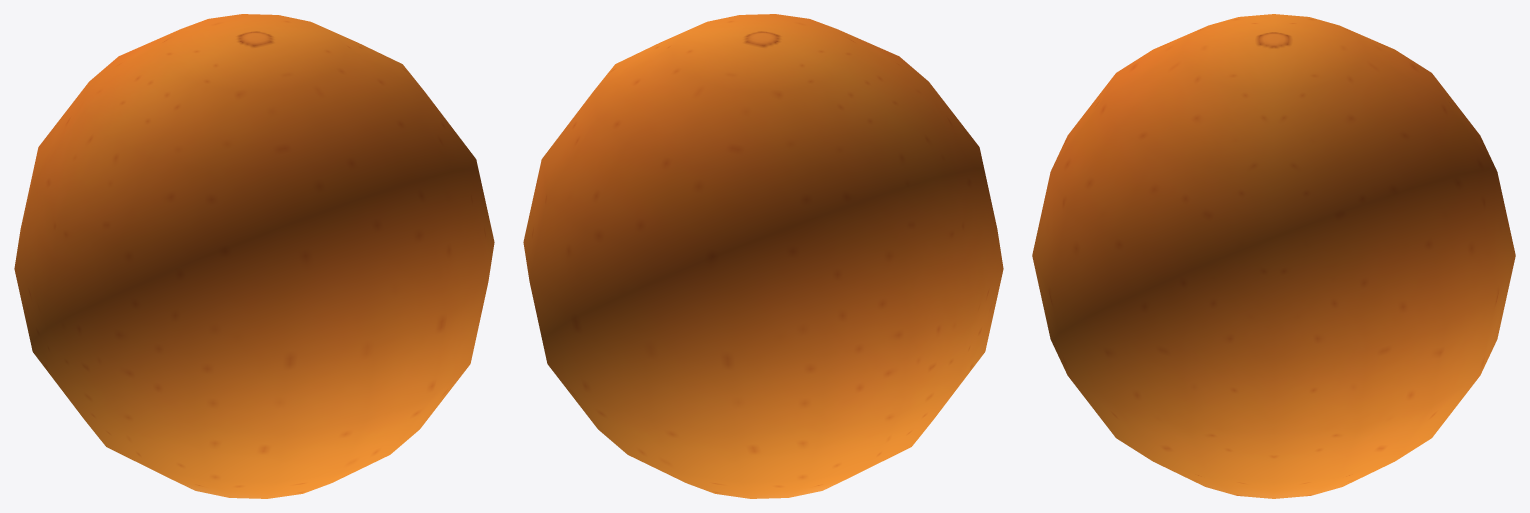
Rendered from Orange.FBX.
The picture shows the model from 3 angles, left to right: view 1: azimuth 30°, elevation 25°; view 2: azimuth 150°, elevation 25°; view 3: azimuth 270°, elevation 25°; orthographic projection.
Parts seen in each view (by area): view 1: Orange; view 2: Orange; view 3: Orange.
Boxes of the visible parts, left/top/right/bottom form: Orange: left=14, top=14, right=494, bottom=498; Orange: left=523, top=14, right=1003, bottom=498; Orange: left=1032, top=14, right=1515, bottom=498.
Size of the model in its own units: 173 by 173 by 173.
